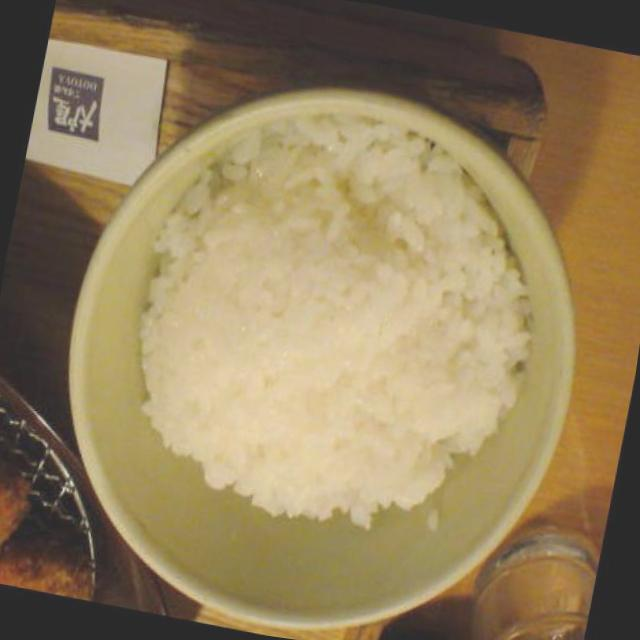Rice: (102, 77, 566, 562)
